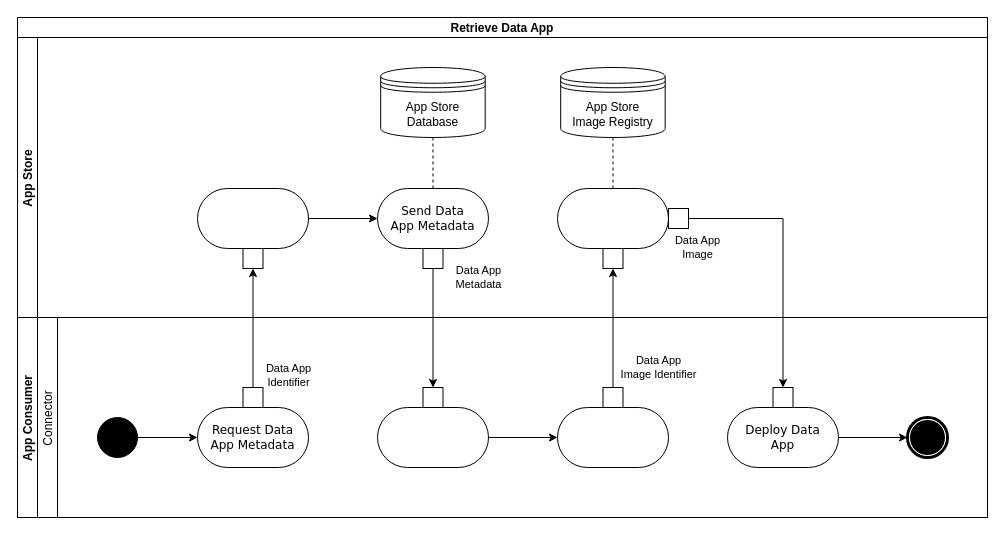
This 1005x535 diagram has some shape labels left out. Each missing label, with the centre of its shape:
Pull Data App Image: the point at 612,437
Receive Data App Metadata: the point at 432,437
Receive Data App Request: the point at 252,218
Send Data App Image: the point at 612,218
